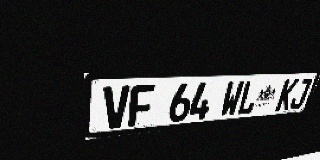4: (188, 82, 214, 120)
6: (168, 83, 194, 123)
F: (128, 84, 155, 127)
J: (288, 78, 313, 110)
K: (275, 79, 299, 111)
L: (236, 80, 261, 115)
V: (103, 85, 130, 129)
W: (219, 81, 245, 117)
